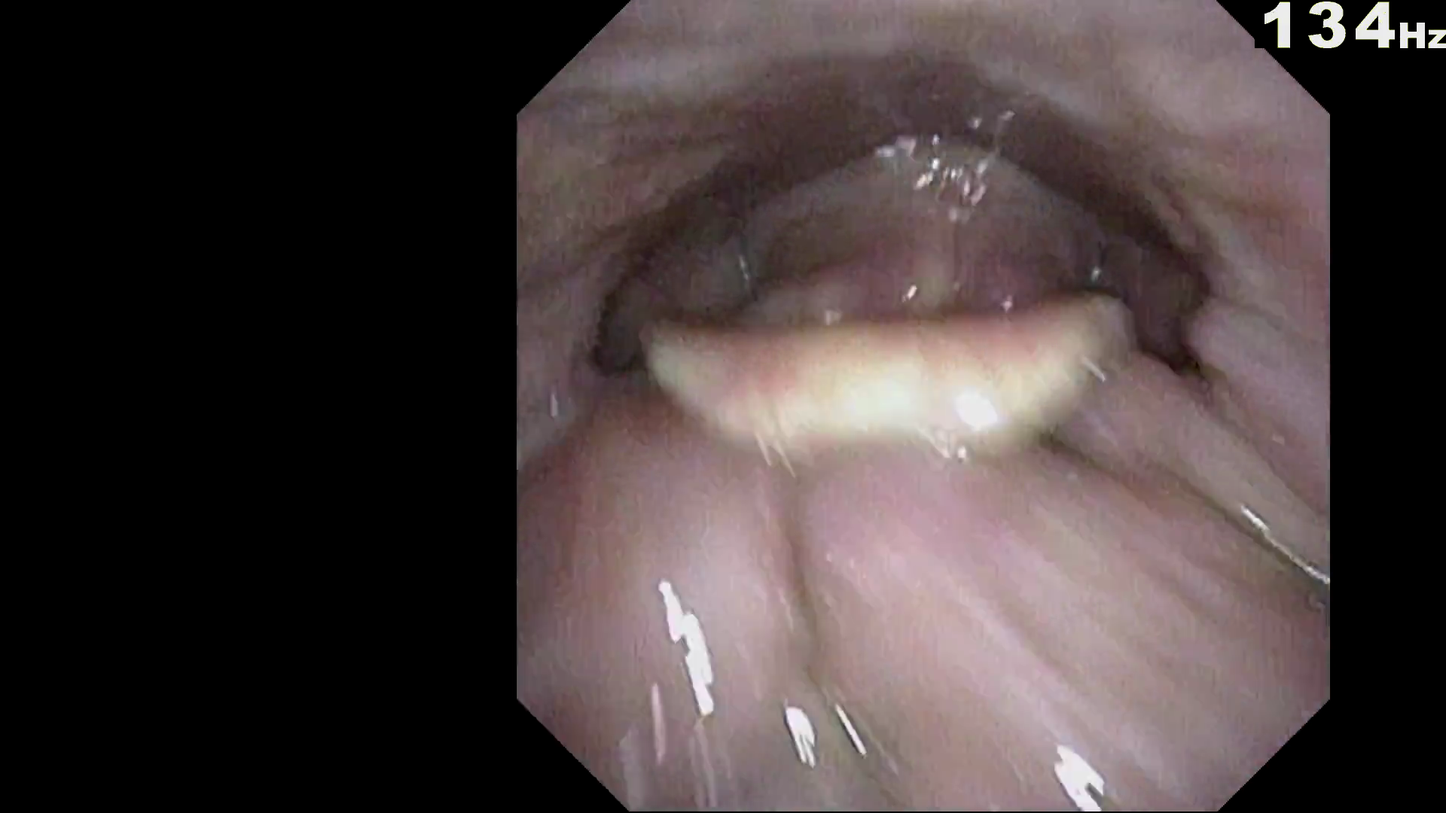epiglottis: (612, 361, 1177, 594)
